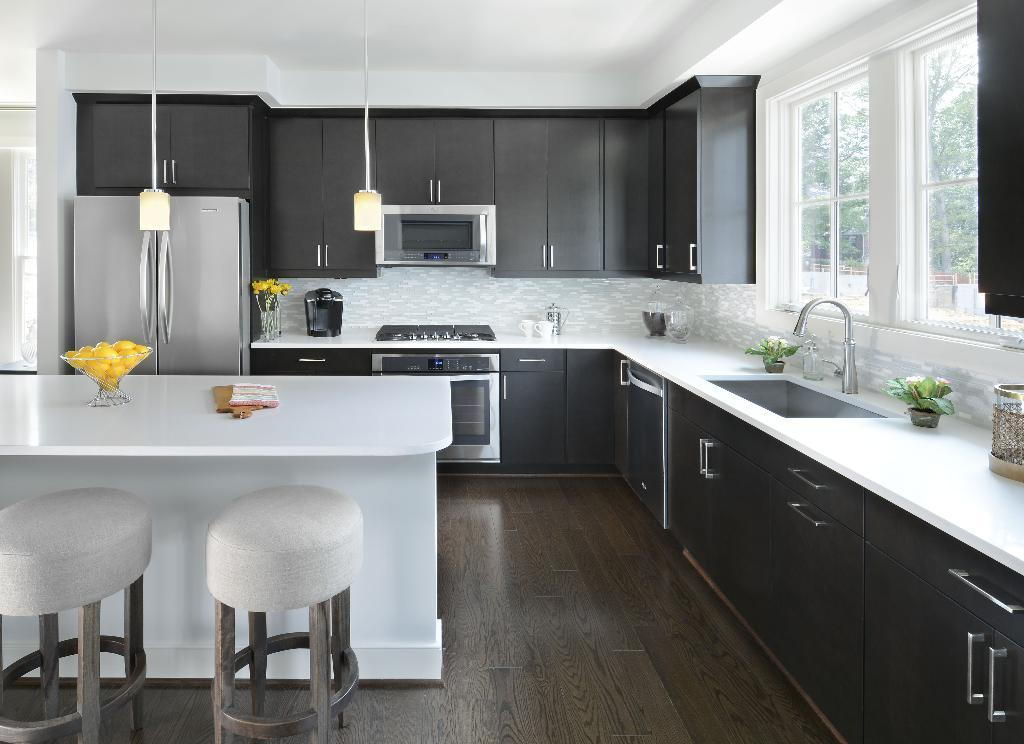cabinet_door: (736, 488, 854, 638), (863, 589, 977, 738), (258, 116, 324, 273), (884, 528, 1020, 589), (161, 104, 247, 196), (496, 120, 550, 264), (76, 102, 159, 194), (328, 121, 374, 270), (554, 127, 600, 270), (368, 114, 434, 203), (664, 116, 699, 277), (504, 371, 562, 459), (702, 405, 732, 559), (756, 444, 838, 499), (670, 400, 700, 528), (438, 120, 484, 198), (991, 640, 1024, 744), (252, 347, 362, 375), (609, 358, 633, 461), (646, 127, 662, 274), (500, 348, 558, 371)
handle: (950, 566, 1016, 616), (982, 644, 1014, 722), (134, 228, 156, 336), (962, 630, 986, 720), (156, 226, 174, 334), (792, 499, 830, 535), (787, 465, 828, 497), (704, 438, 722, 480), (691, 431, 708, 474), (683, 234, 701, 273), (294, 352, 328, 370), (615, 356, 632, 390), (518, 352, 552, 369), (648, 238, 664, 270), (310, 238, 326, 270), (156, 155, 170, 187), (536, 240, 550, 269), (498, 373, 512, 401), (548, 240, 558, 270), (170, 156, 180, 185), (322, 238, 332, 266), (428, 176, 438, 203), (436, 178, 444, 203)
